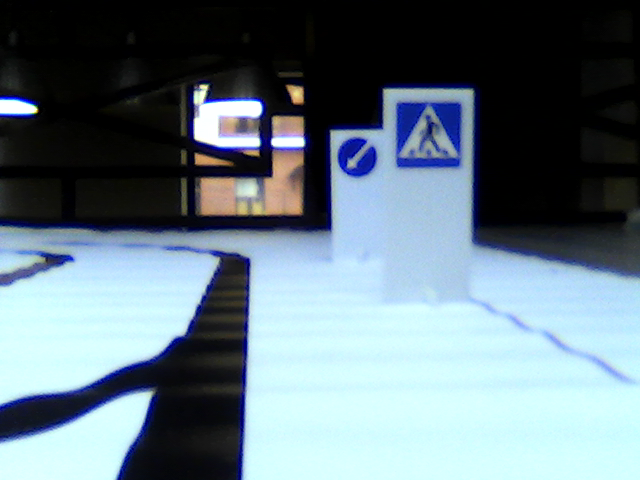pesh: (394, 98, 466, 170)
prep: (336, 137, 379, 179)
